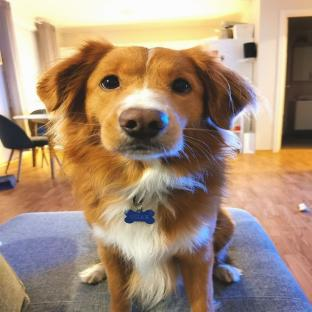Animal: (37, 41, 259, 312)
